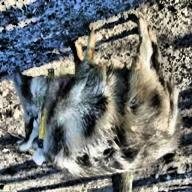boar: (4, 20, 188, 177)
